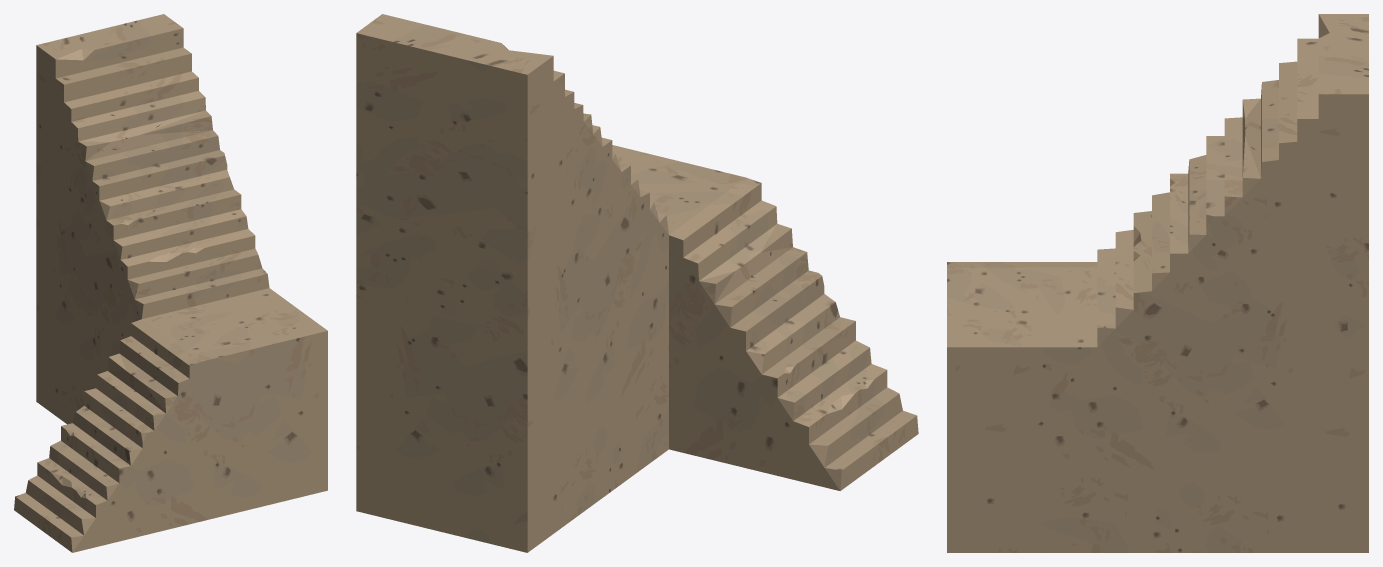
Rendered from SM_Bld_Stairs_Corner_02.fbx.
3 renders of one model, left to right at view 1: azimuth 30°, elevation 25°; view 2: azimuth 150°, elevation 25°; view 3: azimuth 270°, elevation 25°, orthographic. The views are drawn at different scales.
Parts seen in each view (by area): view 1: SM_Bld_Stairs_Corner_02; view 2: SM_Bld_Stairs_Corner_02; view 3: SM_Bld_Stairs_Corner_02.
Part boxes in pixels (bbox=[...]): SM_Bld_Stairs_Corner_02: bbox=[14, 14, 327, 552]; SM_Bld_Stairs_Corner_02: bbox=[356, 14, 918, 552]; SM_Bld_Stairs_Corner_02: bbox=[947, 14, 1368, 552].
Bounding box in the file's own units: 450 × 600 × 500.
